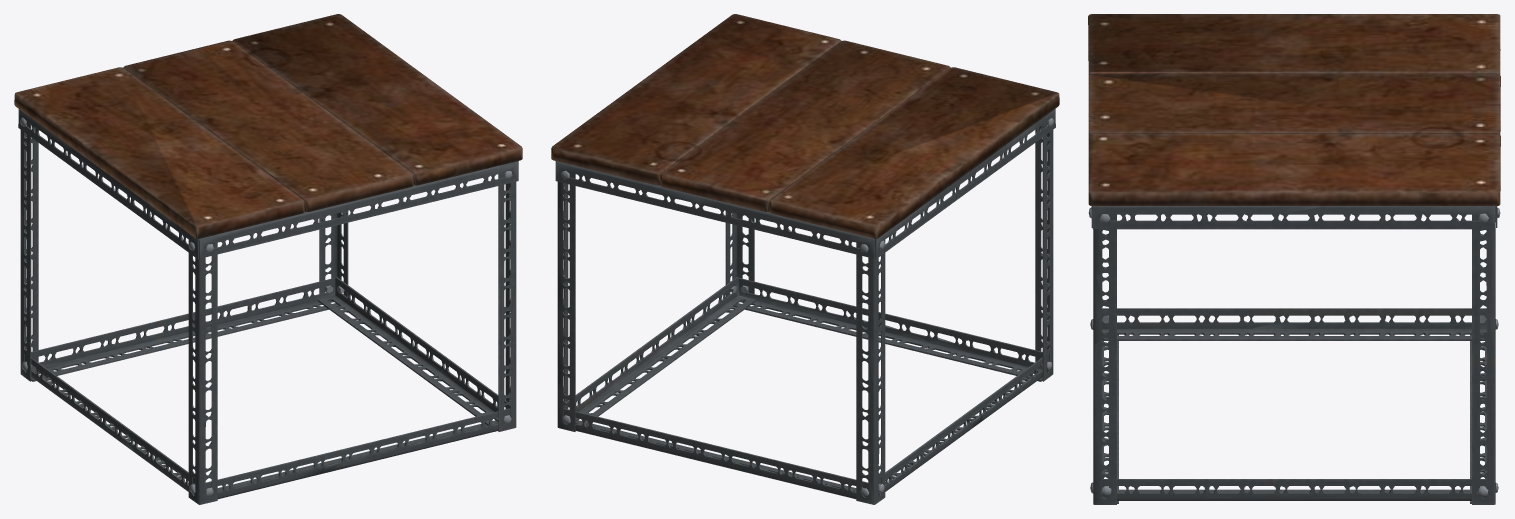
File: coffee-table-industrial.1f1c5a14.glb
3 renders of one model, left to right at view 1: azimuth 30°, elevation 25°; view 2: azimuth 150°, elevation 25°; view 3: azimuth 270°, elevation 25°, orthographic. The views are drawn at different scales.
Parts seen in each view (by area): view 1: model; view 2: model; view 3: model.
Part boxes in pixels (<box>): model: <box>14,14,522,504</box>; model: <box>551,14,1059,504</box>; model: <box>1088,14,1500,504</box>.
Size of the model in its own units: 0.7773 by 0.6384 by 0.7579.
Materials: 1 (1 with a texture image).
